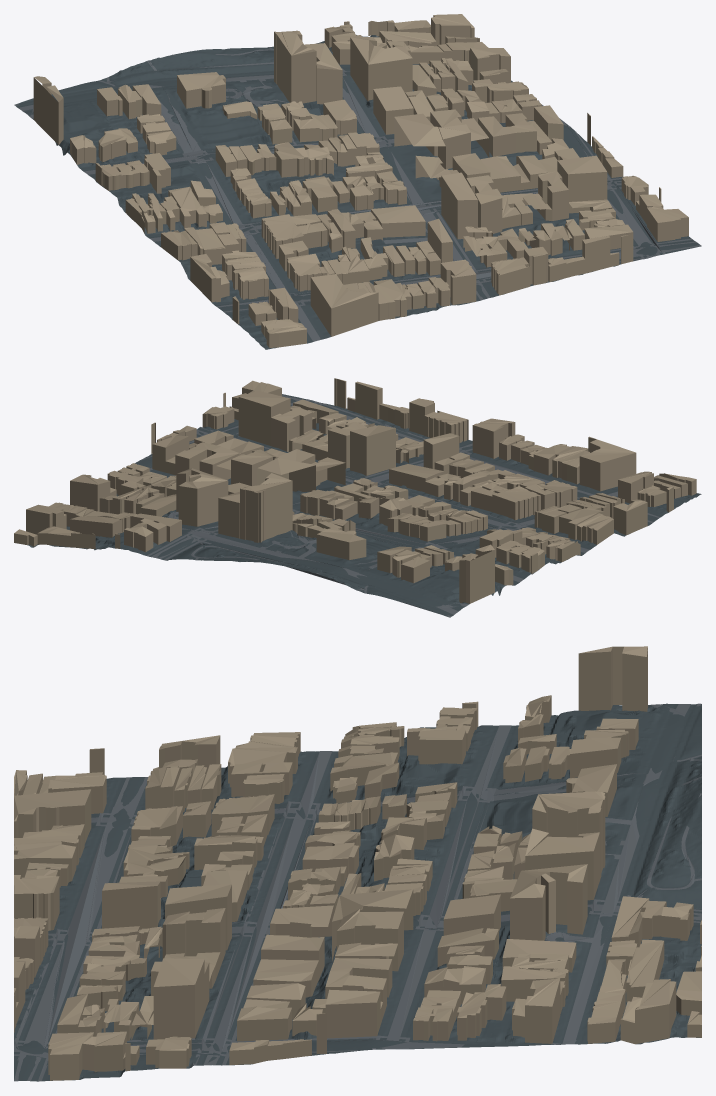
The model's file is epsg26910-1433-10893.lod0.glb.
The picture shows the model from 3 angles, top to bottom: view 1: azimuth 30°, elevation 25°; view 2: azimuth 150°, elevation 25°; view 3: azimuth 270°, elevation 25°; orthographic projection. The views are drawn at different scales.
Parts seen in each view (by area): view 1: epsg26910-1433-10893-lod0; view 2: epsg26910-1433-10893-lod0; view 3: epsg26910-1433-10893-lod0.
Part boxes in pixels (<box>): epsg26910-1433-10893-lod0: <box>14,14,701,349</box>; epsg26910-1433-10893-lod0: <box>14,378,701,617</box>; epsg26910-1433-10893-lod0: <box>14,646,701,1081</box>.
Bounding box in the file's own units: 384 × 92.1 × 384.
